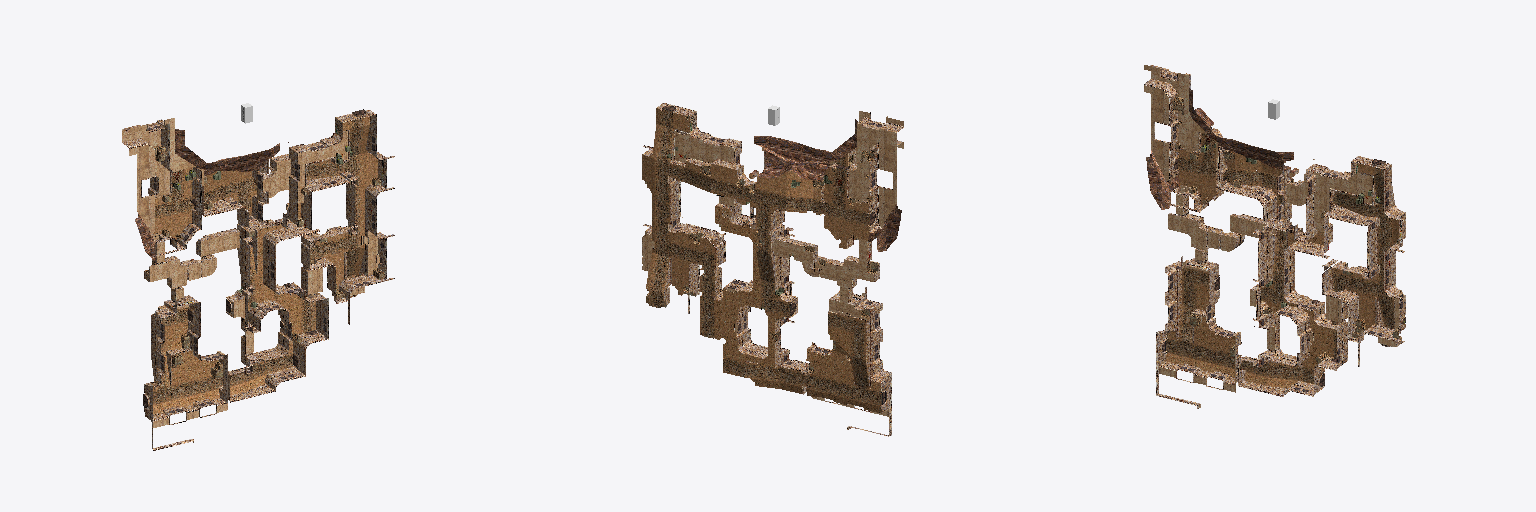
The picture shows the model from 3 angles: view 1: azimuth 30°, elevation 25°; view 2: azimuth 150°, elevation 25°; view 3: azimuth 330°, elevation 25°; orthographic projection.
Parts seen in each view (by area): view 1: BSP_Object.model_0.008; view 2: BSP_Object.model_0.008; view 3: BSP_Object.model_0.008.
Part boxes in pixels (bbox=[...]): BSP_Object.model_0.008: bbox=[122, 103, 394, 450]; BSP_Object.model_0.008: bbox=[642, 103, 903, 436]; BSP_Object.model_0.008: bbox=[1144, 65, 1405, 408].
Bounding box in the file's own units: 112 × 133 × 15.2.
Materials: 34 (33 with a texture image).